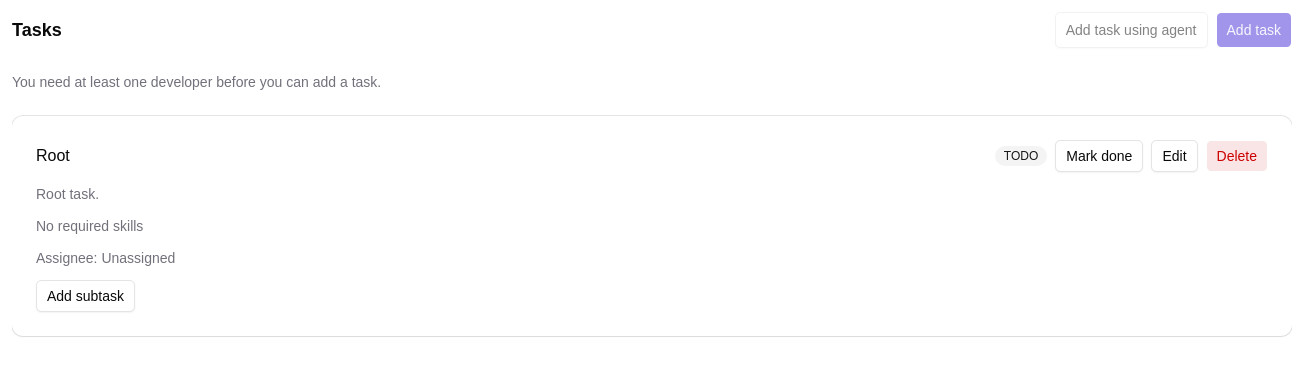
Test: TasksPage › allows retrying a status update after a failure
Expected: the text "Root" is shown, [36,144,70,168]
Click the button "Mark done" at x=1099, y=156, box [1055,140,1144,172]
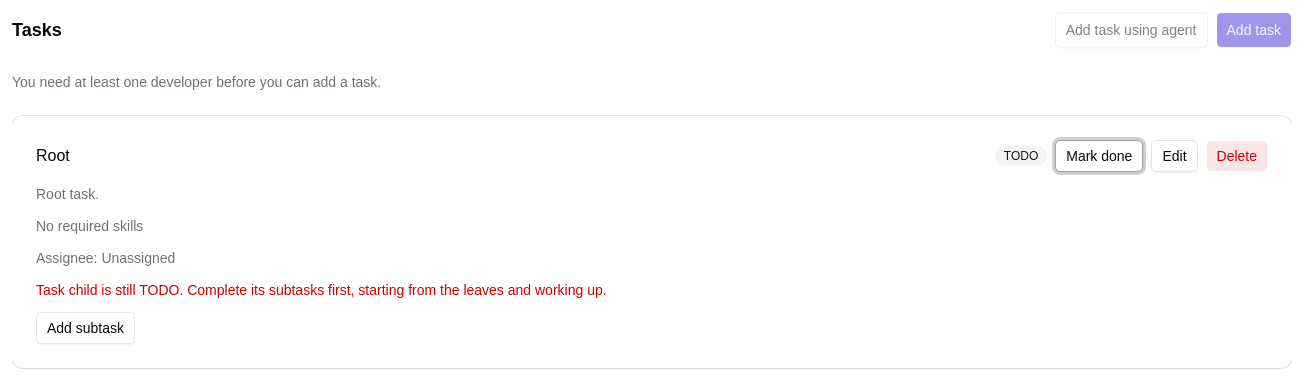
Result: the text "Task child is still TODO. Complete its subtasks first, starting from the leaves and working up." is shown at [36,282,607,298]
Click the button "Mark done" at x=1099, y=156, box [1055,140,1144,172]
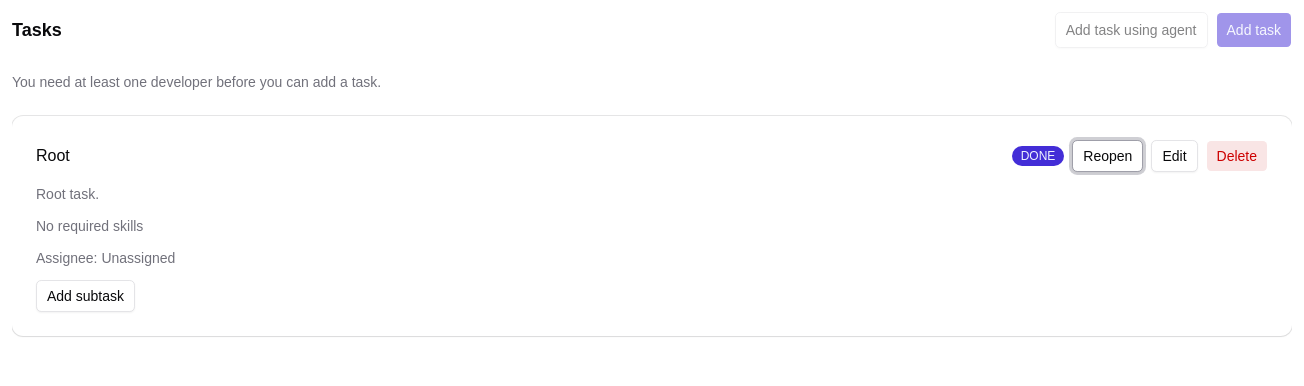
Result: the button "Reopen" is shown at [1072,140,1143,172]
Result: the text "Task child is still TODO. Complete its subtasks first, starting from the leaves and working up." is gone
